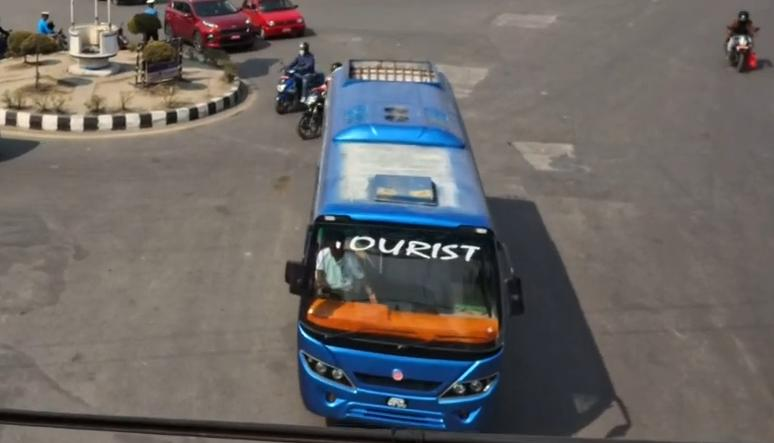bus: (299, 24, 516, 443)
